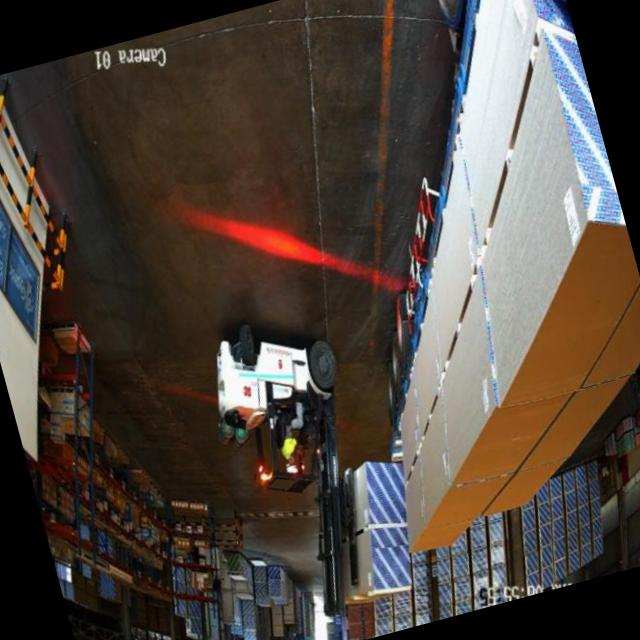driver: (259, 393, 324, 484)
forklift: (172, 286, 386, 531)
